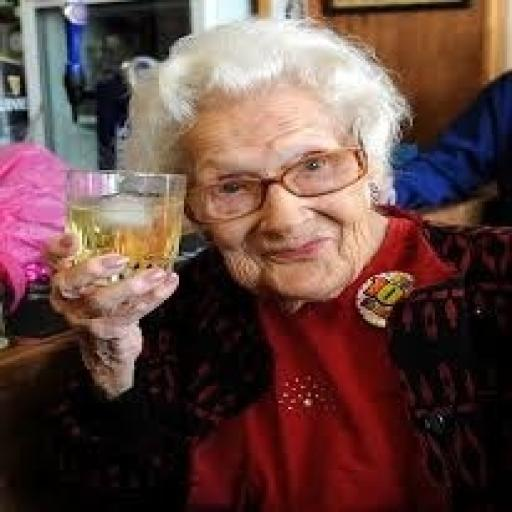drinking: (60, 39, 350, 291)
